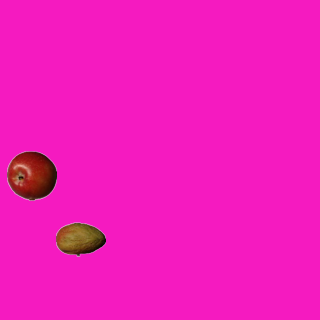Apple Braeburn: (6, 150, 56, 200)
Papaya: (55, 214, 105, 264)
